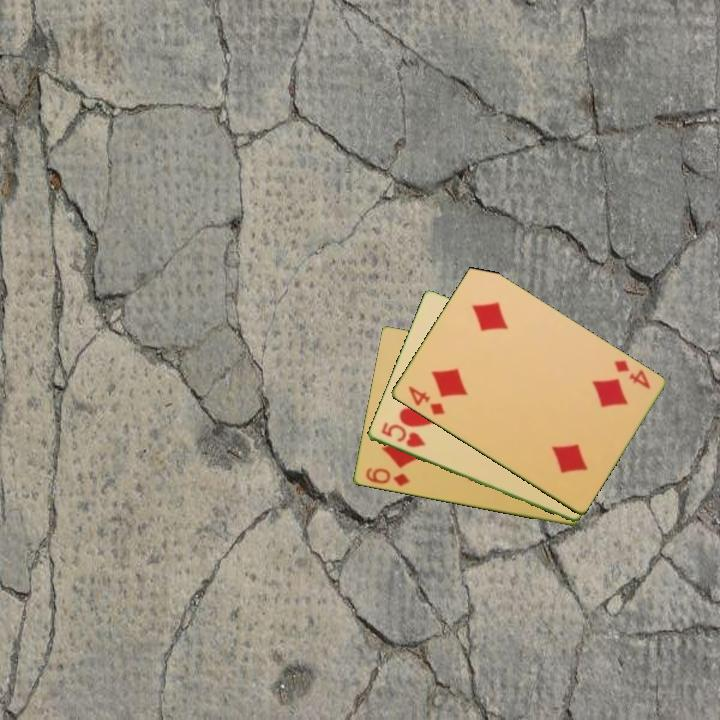4d: (404, 382, 447, 418), (610, 357, 653, 392)
5h: (377, 419, 428, 451)
6d: (362, 464, 413, 490)
